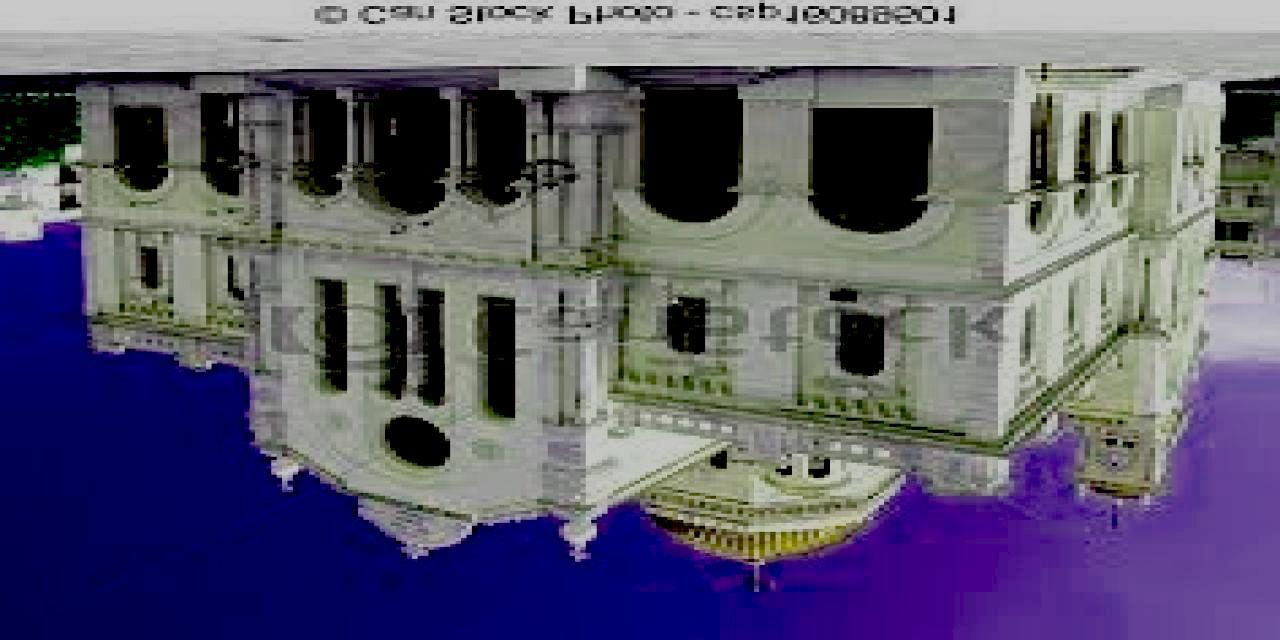Agios Minas: (68, 71, 1228, 637)
